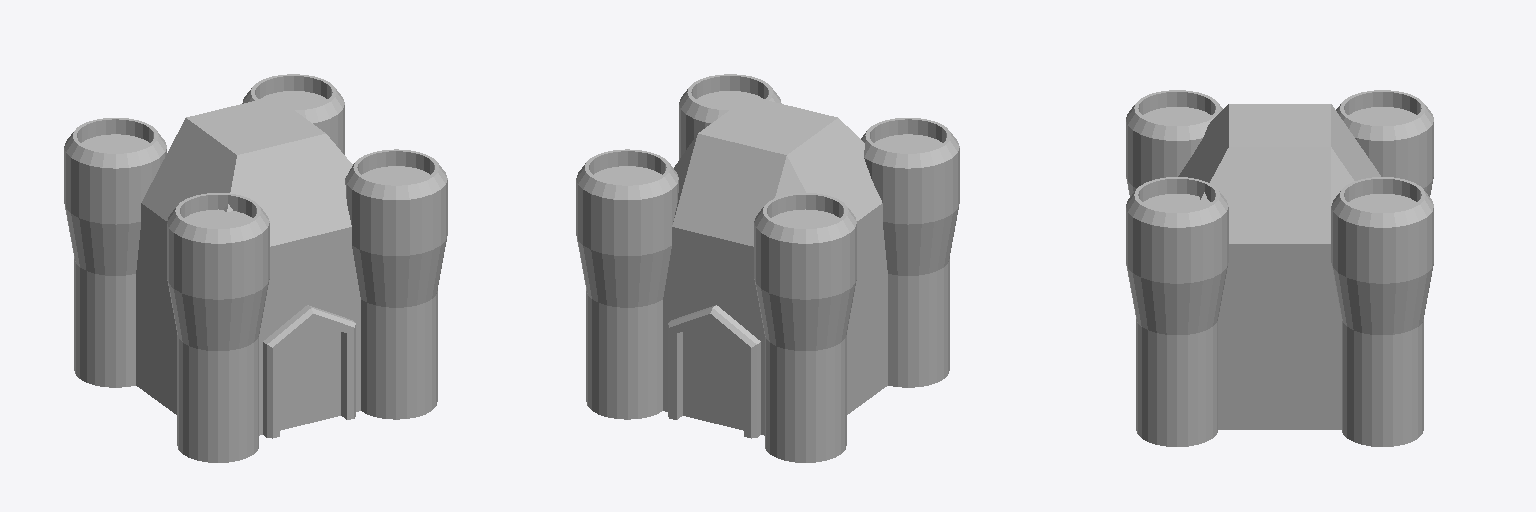
The model's file is Store.obj.
3 views of the same model, side by side, from view 1: azimuth 30°, elevation 25°; view 2: azimuth 150°, elevation 25°; view 3: azimuth 270°, elevation 25° (orthographic).
Visible parts, largest first — view 1: Store.obj; view 2: Store.obj; view 3: Store.obj.
Boxes of the visible parts, <box> form: Store.obj: <box>64,74,447,462</box>; Store.obj: <box>576,74,959,462</box>; Store.obj: <box>1126,90,1433,446</box>.
Size of the model in its own units: 3 by 2.8 by 3.